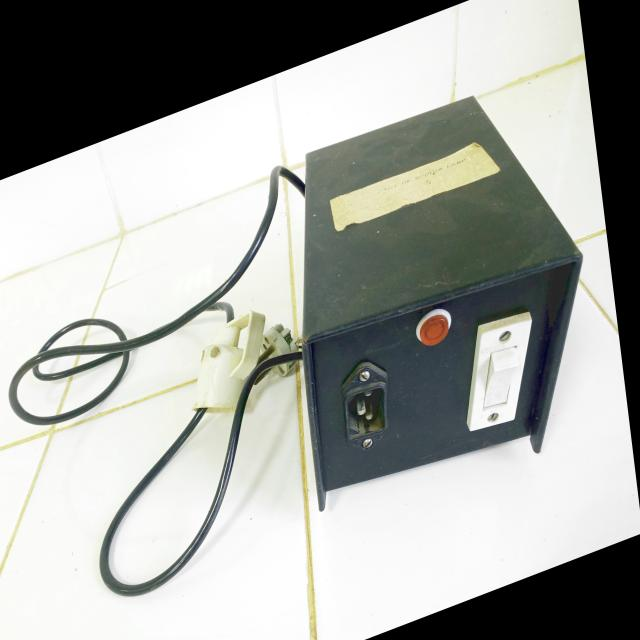Sodium Lamp Power Supply: (277, 33, 612, 534)
